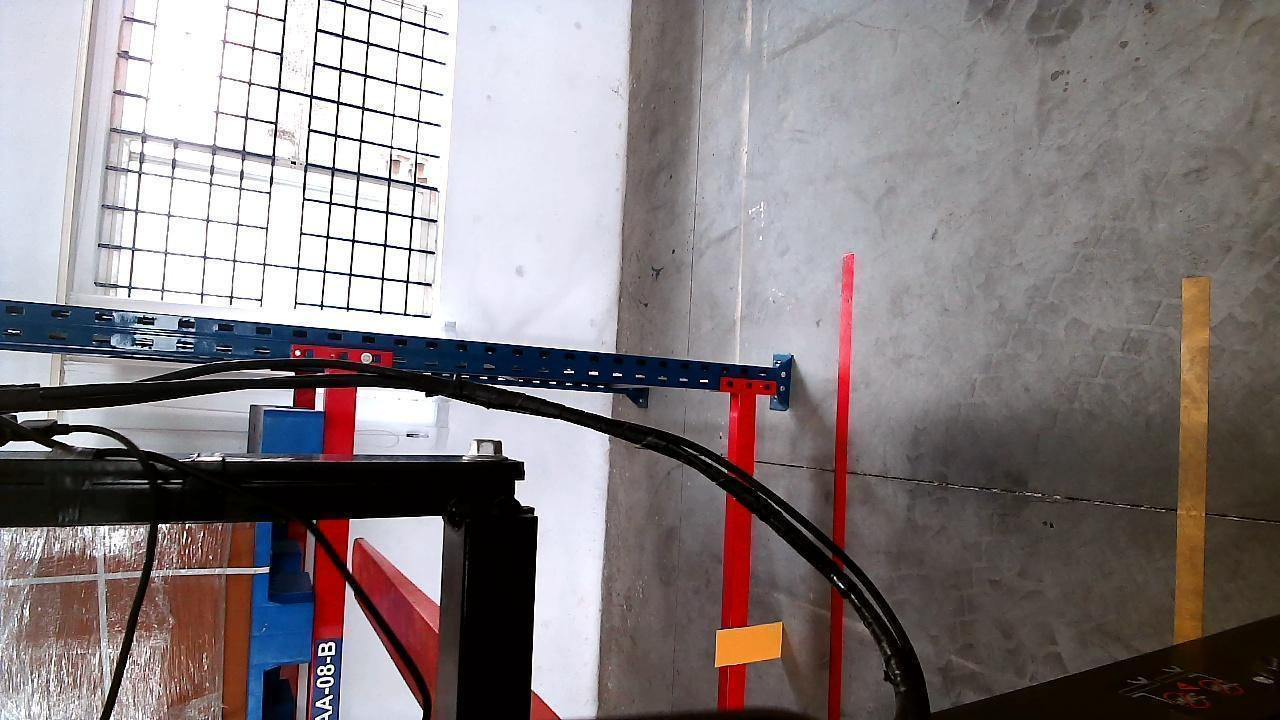red_line: (829, 254, 853, 720)
yellow_line: (1175, 275, 1211, 637)
